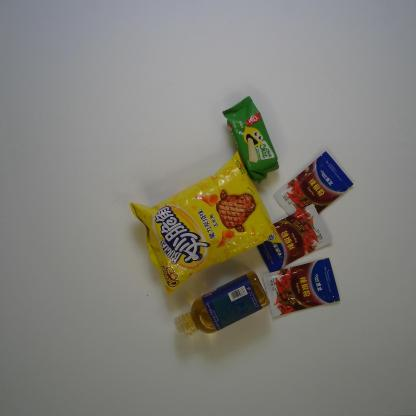Dessert: (221, 94, 280, 185)
Drink: (172, 270, 271, 341)
Puffed Food: (128, 148, 284, 300)
Seasoner: (272, 150, 355, 218), (256, 202, 334, 272), (261, 257, 341, 318)
